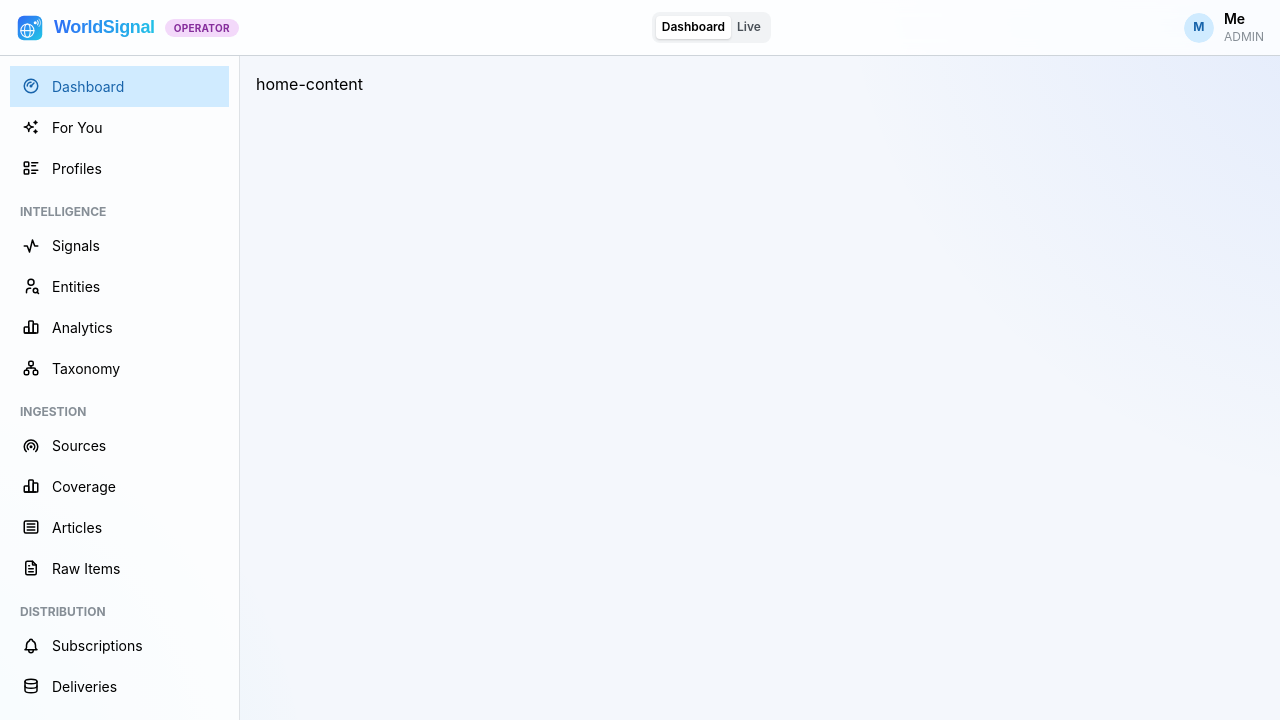
Test: Layout › navigates to account from the menu
Click the button with test id "user-menu" at (1224, 28), box [1184,9,1264,46]
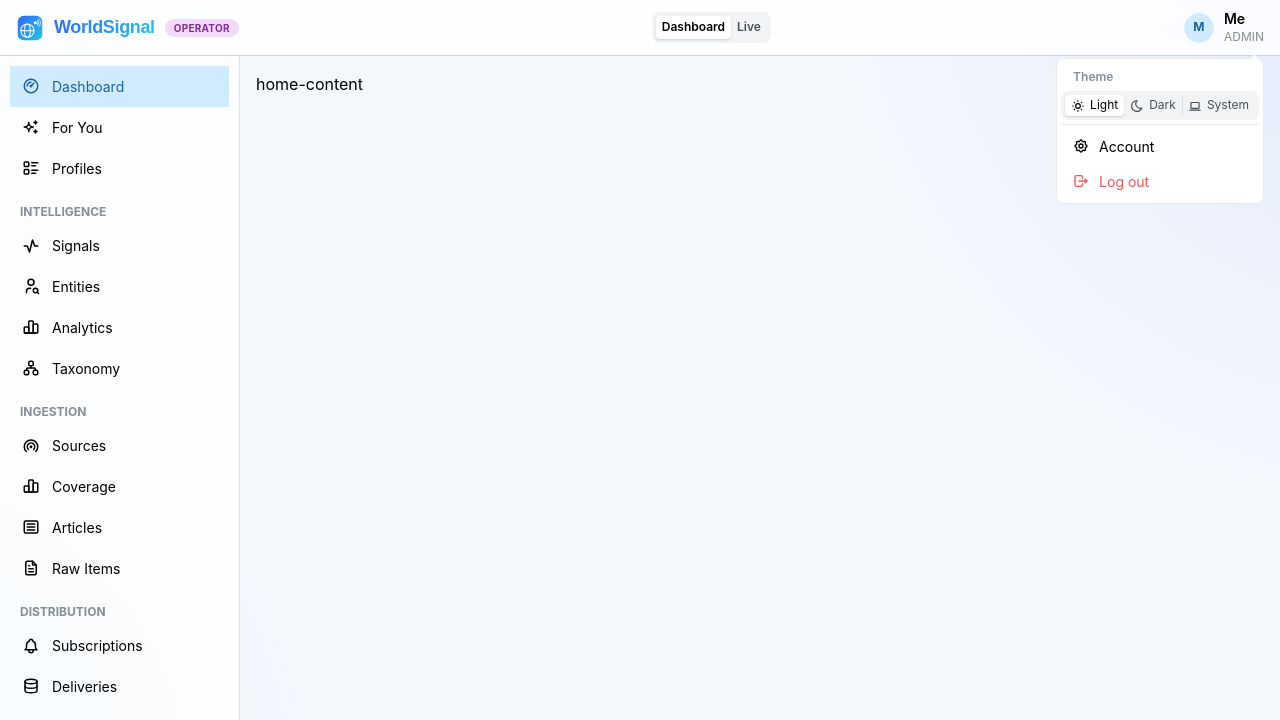
Click the menu item "Account" at (1160, 146), box [1061,129,1259,164]
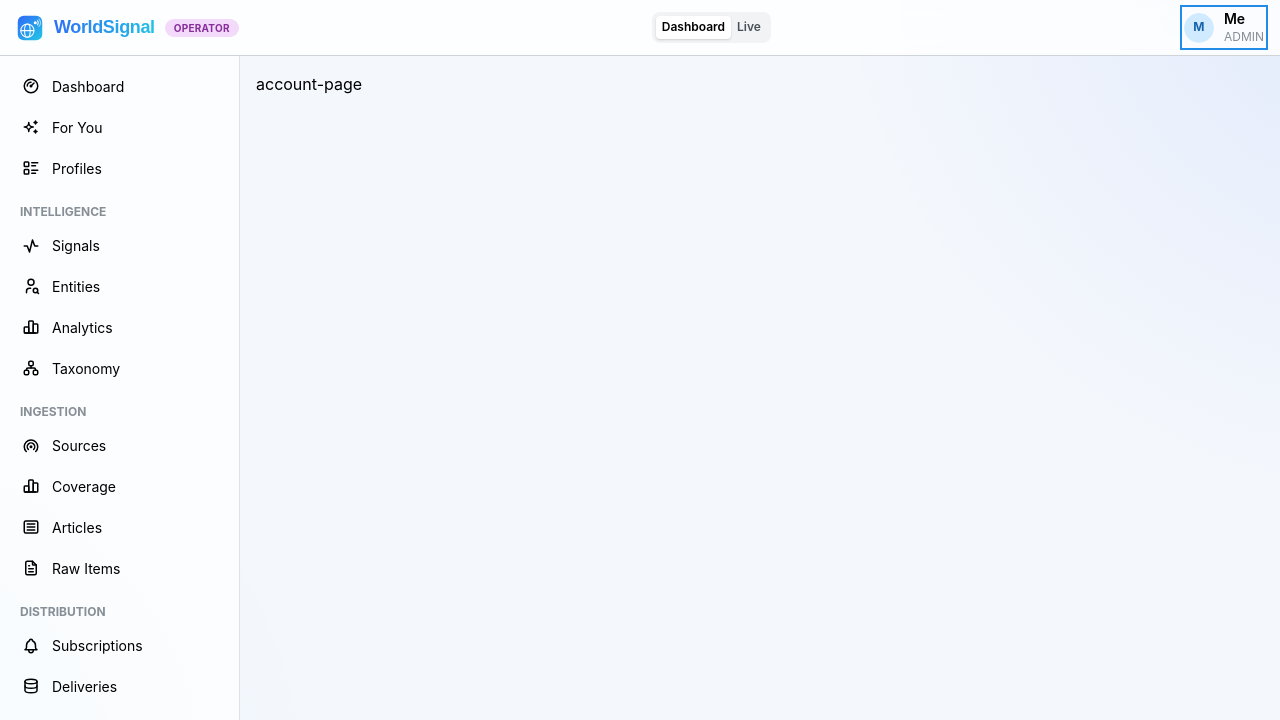
Now the text "account-page" is shown, box [256,74,362,94]
